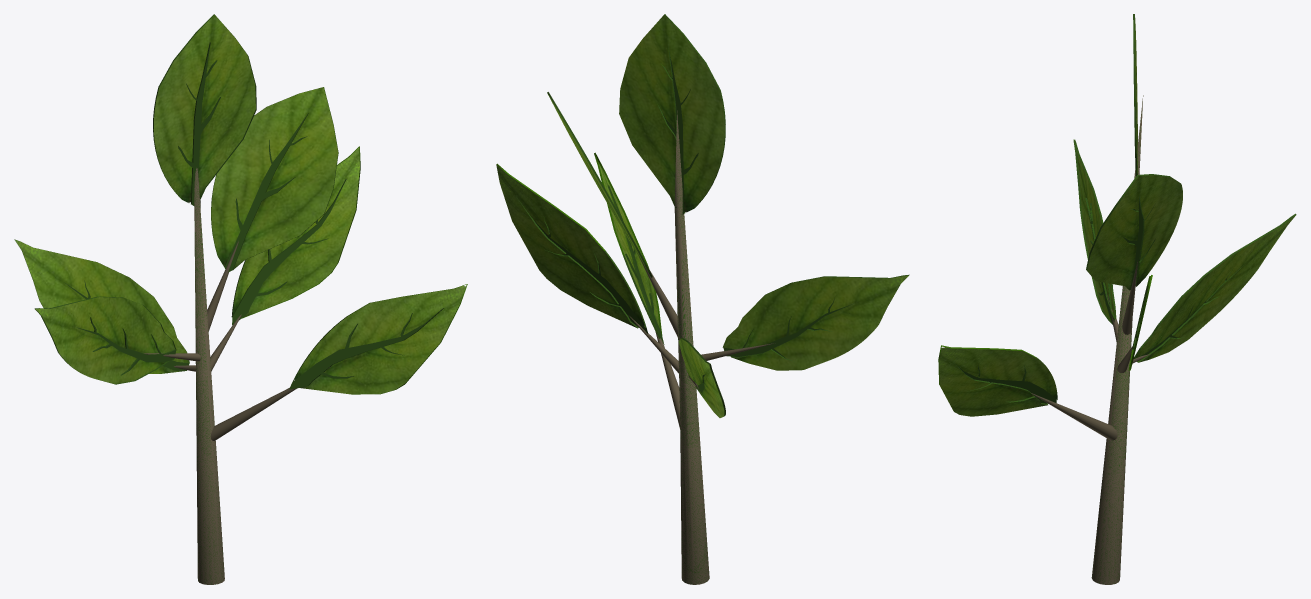
File: treebranch.dae
3 renders of one model, left to right at view 1: azimuth 30°, elevation 25°; view 2: azimuth 150°, elevation 25°; view 3: azimuth 270°, elevation 25°, orthographic. The views are drawn at different scales.
Parts seen in each view (by area): view 1: branch (×15), cone; view 2: branch (×15), cone; view 3: branch (×9), cone.
Part boxes in pixels (x1,y1,x2,y2): branch (×15): (15,14,465,584); cone: (210,366,331,440); branch (×15): (496,14,908,584); cone: (655,332,680,429); branch (×9): (939,95,1296,584); cone: (1031,393,1117,440).
Size of the model in its own units: 20.46 by 16.54 by 29.26.
Materials: 4 (1 with a texture image).
